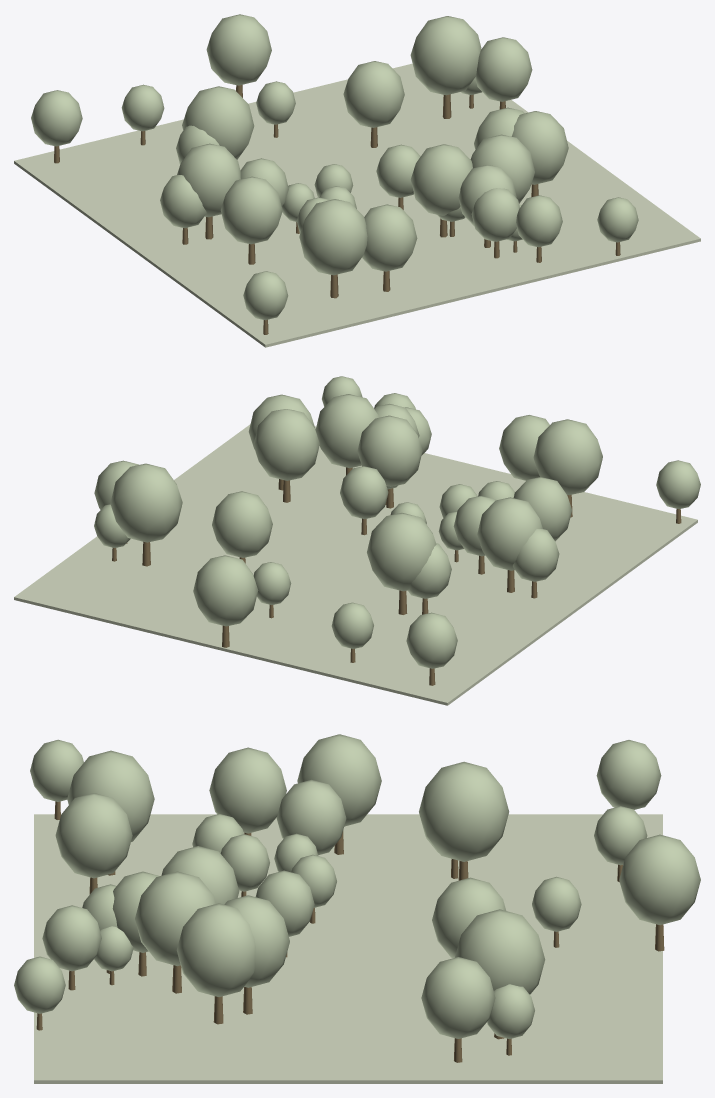
3 views of the same model, one above another, from view 1: azimuth 30°, elevation 25°; view 2: azimuth 150°, elevation 25°; view 3: azimuth 270°, elevation 25° (orthographic). The views are drawn at different scales.
Visible parts, largest first — view 1: terrain, lod-near-14, lod-near-28, lod-near-11, lod-near-21, lod-near-23, lod-near-25, lod-near-8, lod-near-26, lod-near-13, lod-near-22, lod-near-9 (+16 smaller); view 2: terrain, lod-near-14, lod-near-21, lod-near-28, lod-near-16, lod-near-11, lod-near-25, lod-near-22, lod-near-8, lod-near-6, lod-near-12, lod-near-26 (+16 smaller); view 3: terrain, lod-near-21, lod-near-9, lod-near-11, lod-near-14, lod-near-26, lod-near-23, lod-near-13, lod-near-22, lod-near-6, lod-near-28, lod-near-30 (+18 smaller).
Boxes of the visible parts, bbox=[...] form: terrain: bbox=[14, 63, 700, 347]; lod-near-14: bbox=[410, 16, 481, 95]; lod-near-28: bbox=[299, 199, 367, 275]; lod-near-11: bbox=[206, 14, 271, 85]; lod-near-21: bbox=[182, 86, 254, 159]; lod-near-23: bbox=[220, 176, 282, 244]; lod-near-25: bbox=[410, 144, 472, 215]; lod-near-8: bbox=[343, 61, 404, 127]; lod-near-26: bbox=[362, 204, 417, 271]; lod-near-13: bbox=[475, 37, 532, 101]; lod-near-22: bbox=[177, 143, 240, 217]; lod-near-9: bbox=[511, 111, 568, 184]; terrain: bbox=[14, 424, 697, 705]; lod-near-14: bbox=[110, 463, 182, 542]; lod-near-21: bbox=[367, 513, 436, 591]; lod-near-28: bbox=[533, 419, 602, 495]; lod-near-16: bbox=[253, 409, 319, 480]; lod-near-11: bbox=[193, 555, 258, 626]; lod-near-25: bbox=[357, 415, 422, 486]; lod-near-22: bbox=[477, 497, 542, 570]; lod-near-8: bbox=[212, 491, 272, 557]; lod-near-6: bbox=[315, 394, 378, 468]; lod-near-12: bbox=[406, 612, 457, 668]; lod-near-26: bbox=[499, 415, 549, 480]; terrain: bbox=[34, 814, 662, 1083]; lod-near-21: bbox=[419, 761, 509, 861]; lod-near-9: bbox=[176, 903, 255, 996]; lod-near-11: bbox=[619, 834, 700, 925]; lod-near-14: bbox=[455, 909, 545, 994]; lod-near-26: bbox=[55, 793, 132, 878]; lod-near-23: bbox=[209, 747, 286, 833]; lod-near-13: bbox=[421, 957, 495, 1038]; lod-near-22: bbox=[297, 734, 381, 826]; lod-near-6: bbox=[135, 871, 216, 966]; lod-near-28: bbox=[67, 750, 154, 841]; lod-near-30: bbox=[276, 779, 346, 854].
Size of the model in its own units: 32.7 by 7.31 by 34.95.
